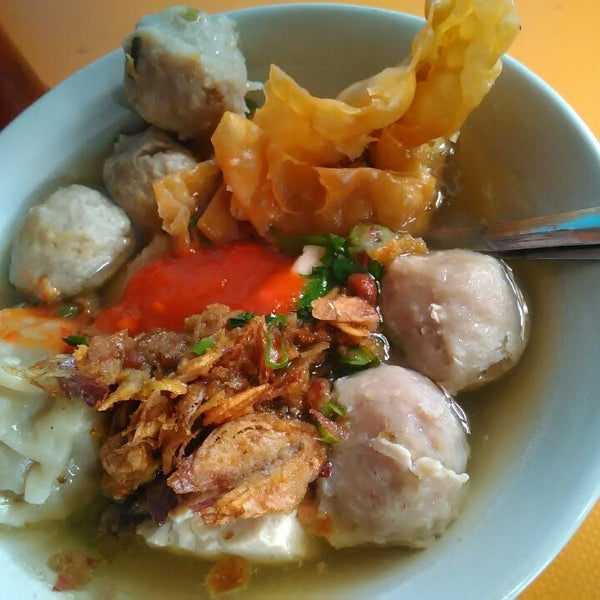bakso_malang: (1, 2, 531, 567)
